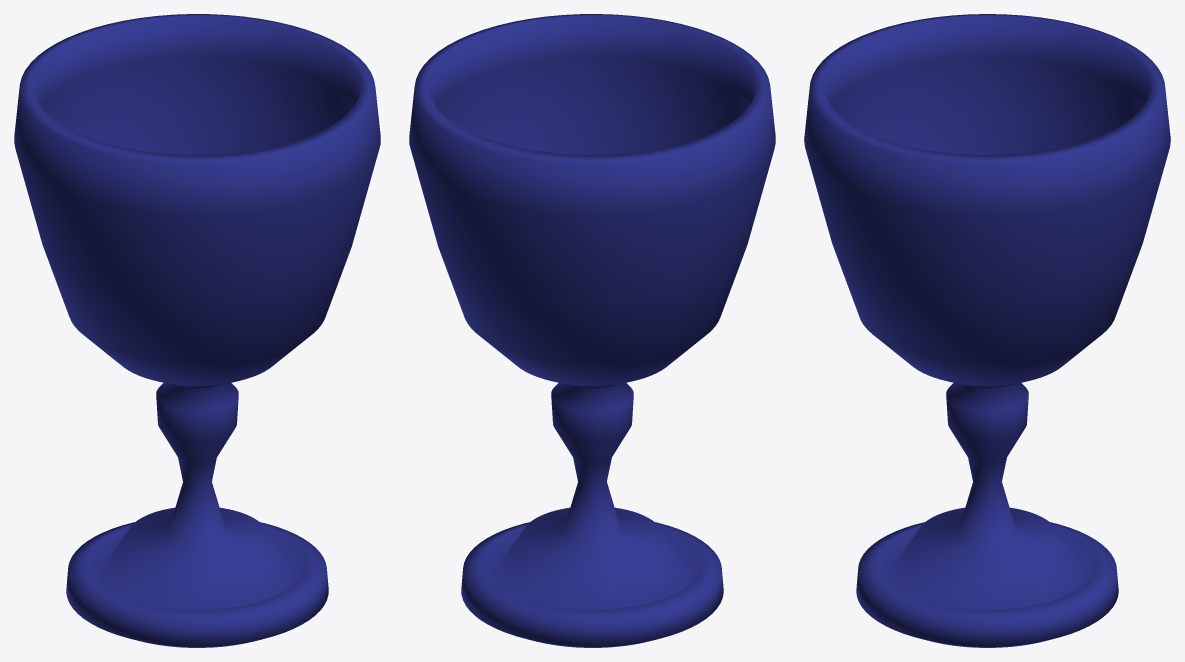
Rendered from cup11.obj.
The picture shows the model from 3 angles, left to right: view 1: azimuth 30°, elevation 25°; view 2: azimuth 150°, elevation 25°; view 3: azimuth 270°, elevation 25°; orthographic projection.
Visible parts, largest first — view 1: Cup11.001; view 2: Cup11.001; view 3: Cup11.001.
Boxes of the visible parts, x1,y1,x2,y2 form: Cup11.001: [14, 14, 380, 647]; Cup11.001: [409, 14, 775, 647]; Cup11.001: [804, 14, 1170, 647].
Bounding box in the file's own units: 1.84 × 2.85 × 1.84.
